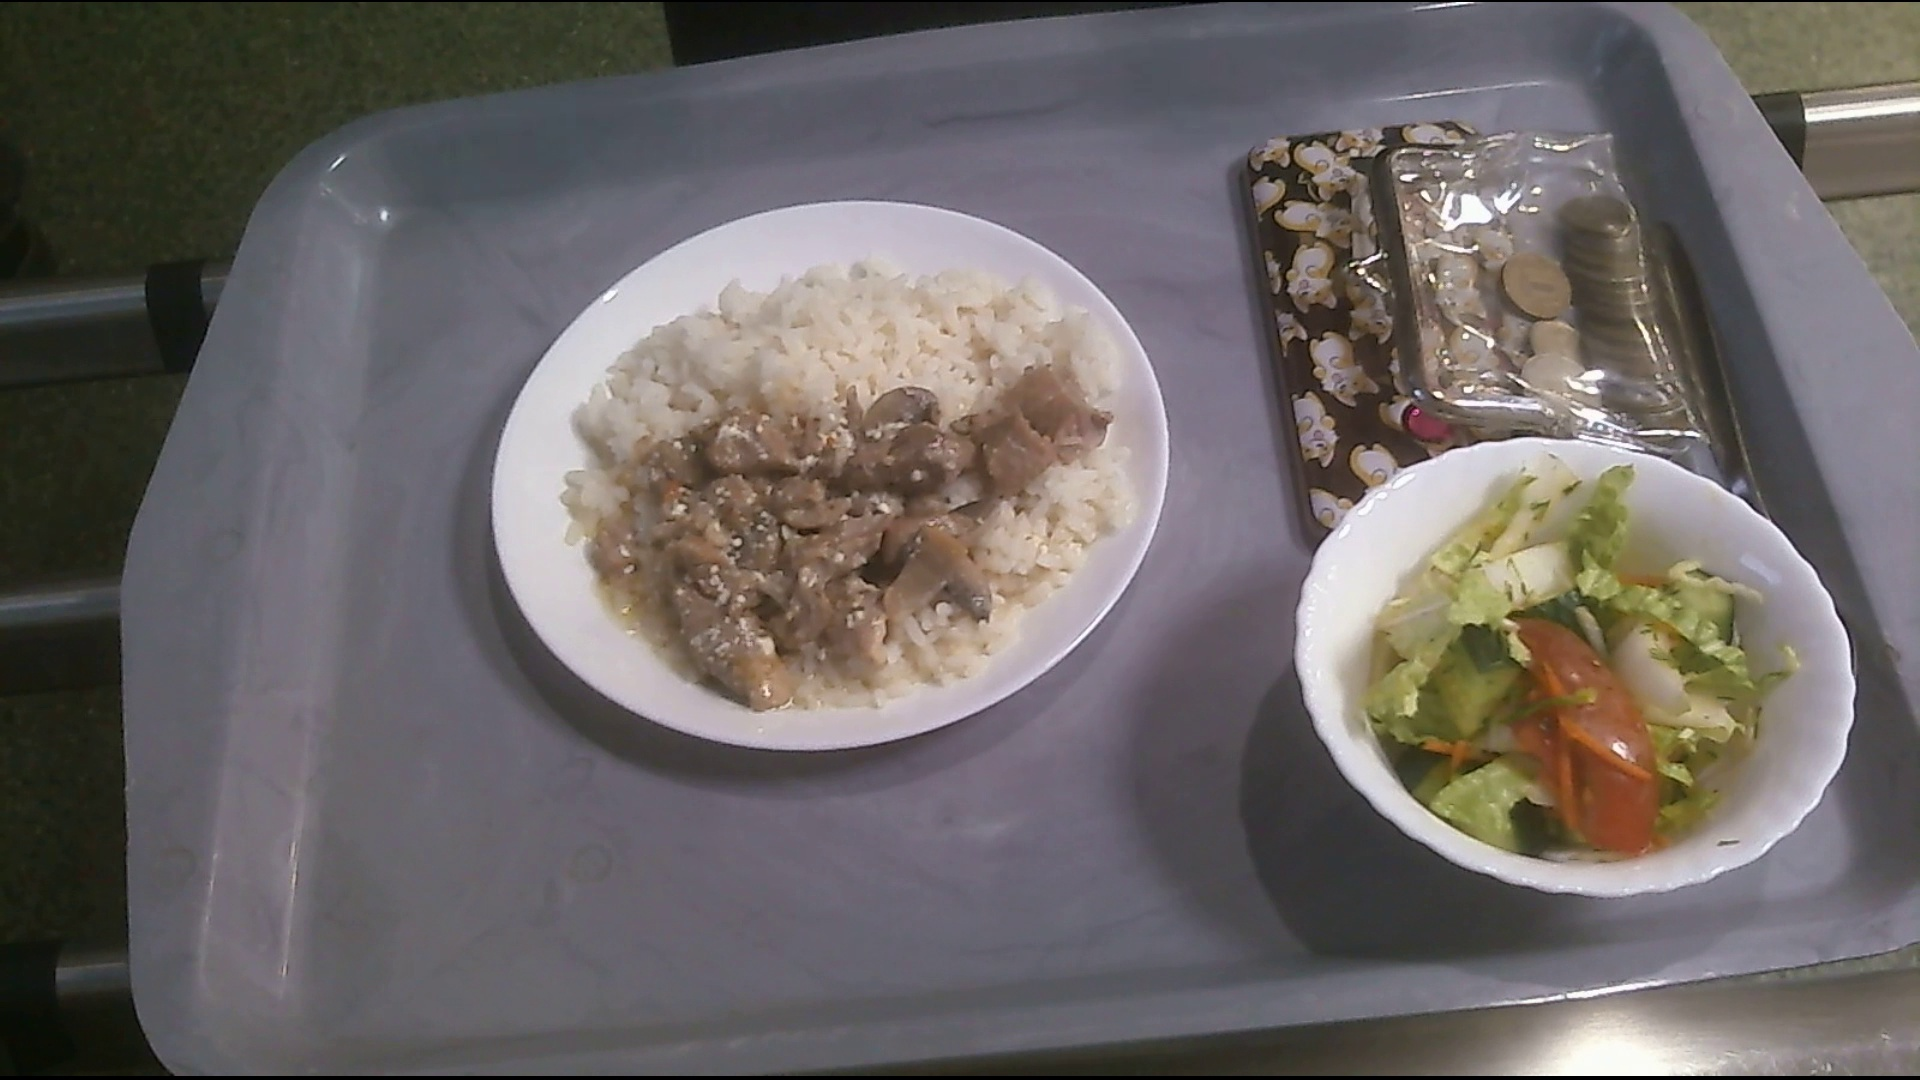bowl: (1302, 440, 1858, 895)
other: (1244, 116, 1673, 534)
plate: (498, 194, 1153, 756)
